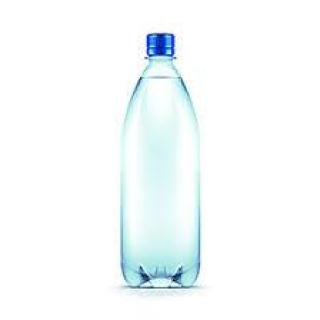Plastic-bottle: (117, 31, 205, 294)
